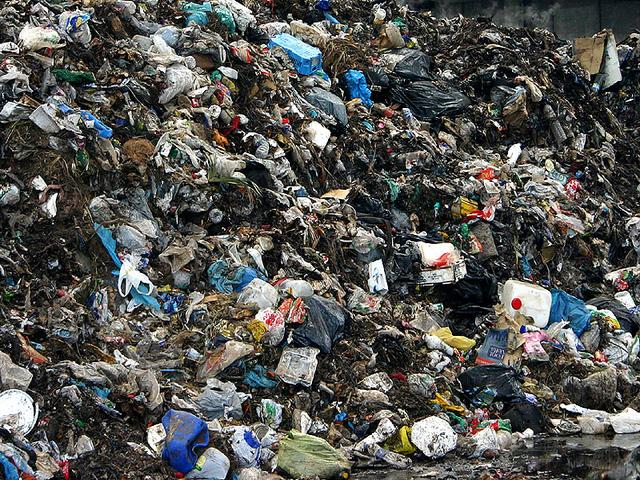garbage: (18, 15, 633, 474)
